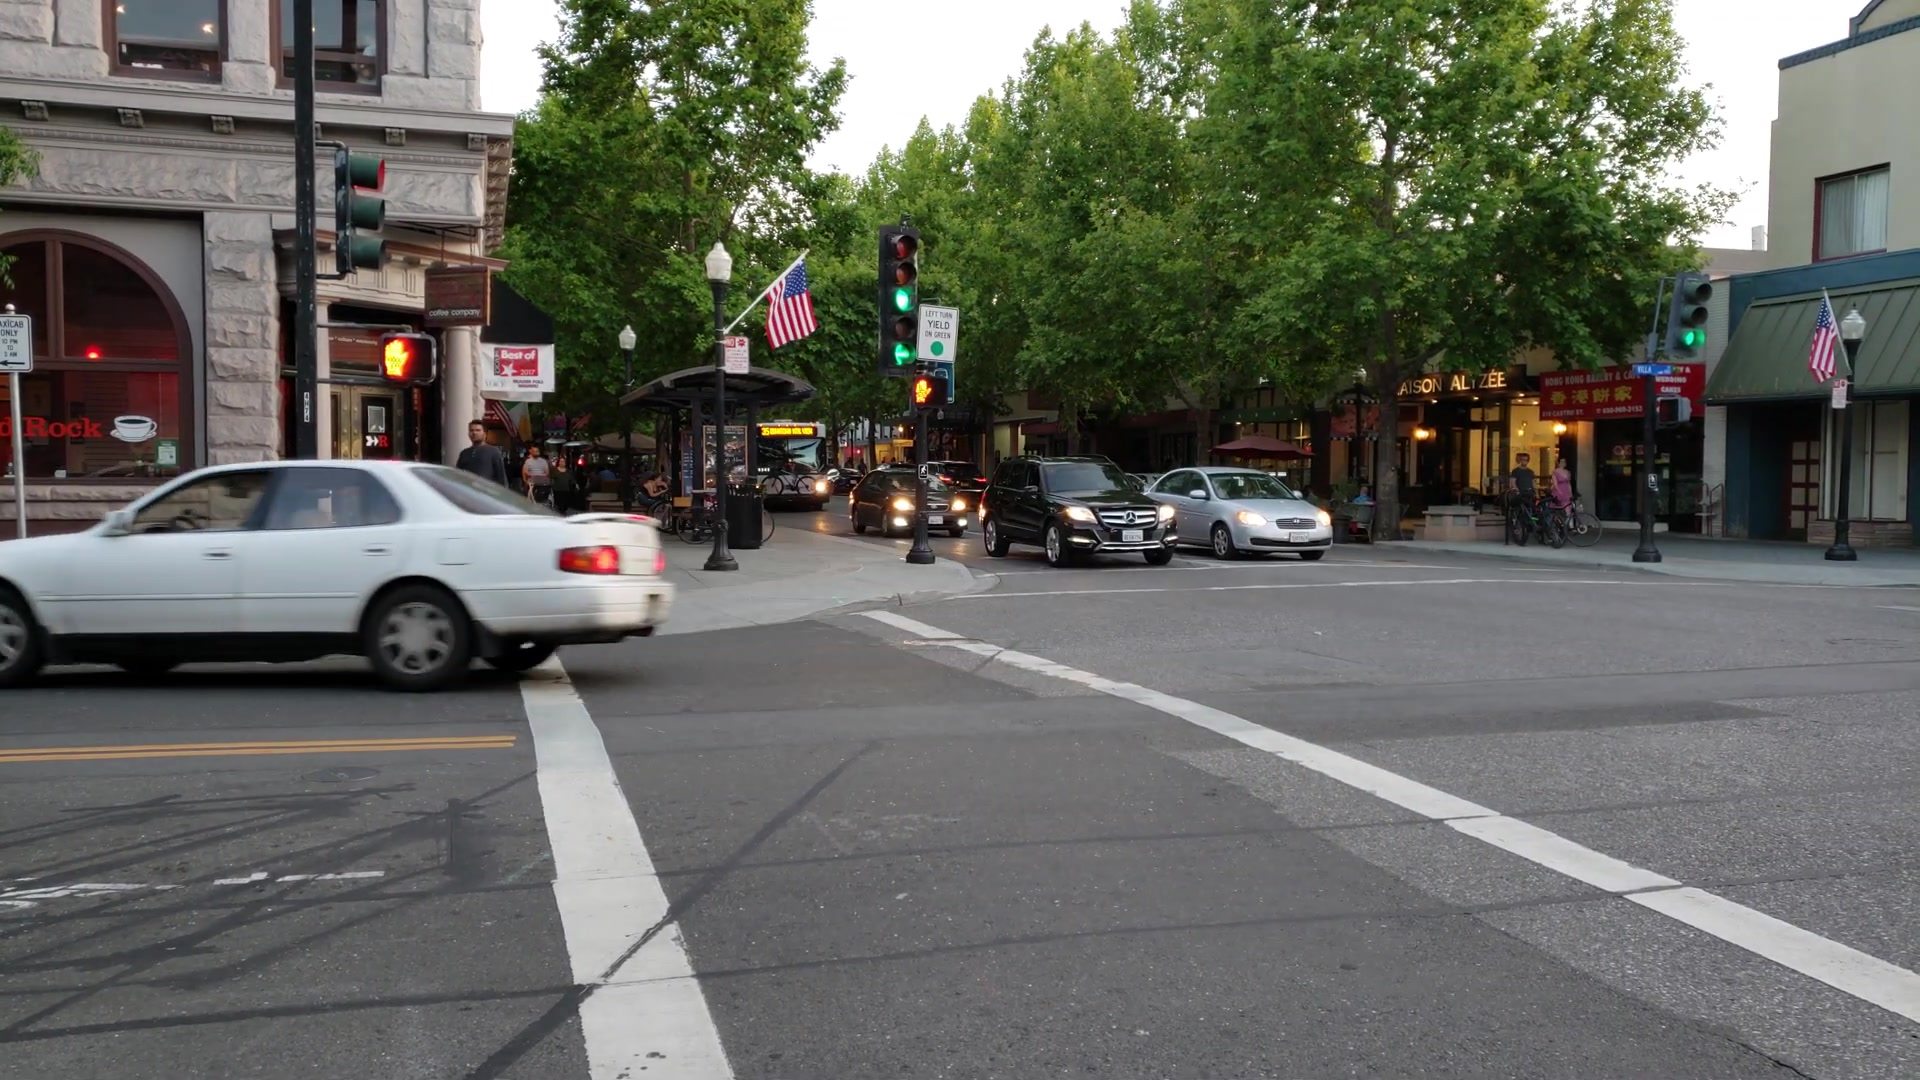vehicle: (3, 460, 669, 687), (978, 458, 1179, 564), (1153, 464, 1336, 560), (851, 469, 967, 537)
